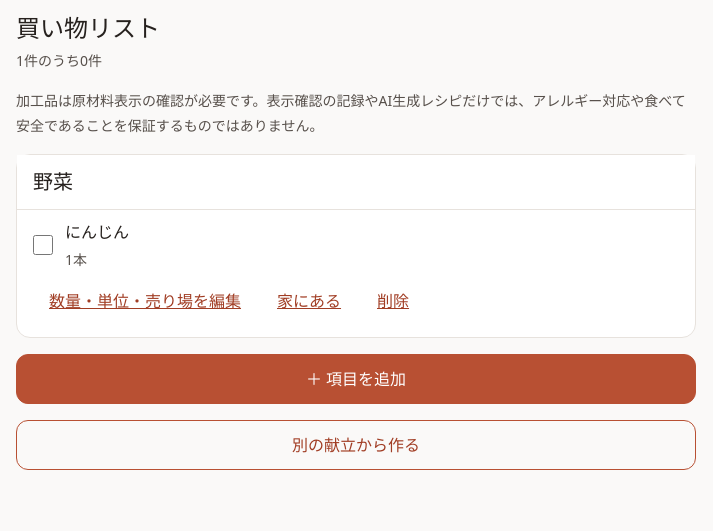
Test: ShoppingListPage warnings and grouping › does not show confirm row when remove mutation fails
Click the button "削除" at (393,301), box [361, 277, 425, 325]
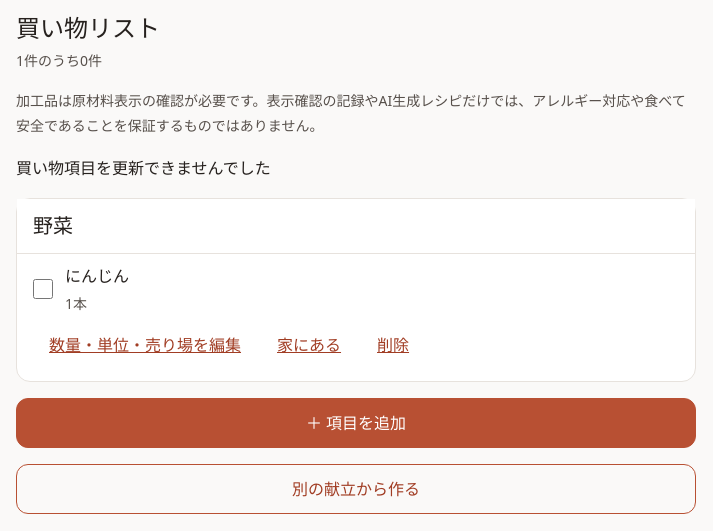
Result: the message "買い物項目を更新できませんでした" is shown at [16, 157, 271, 179]
